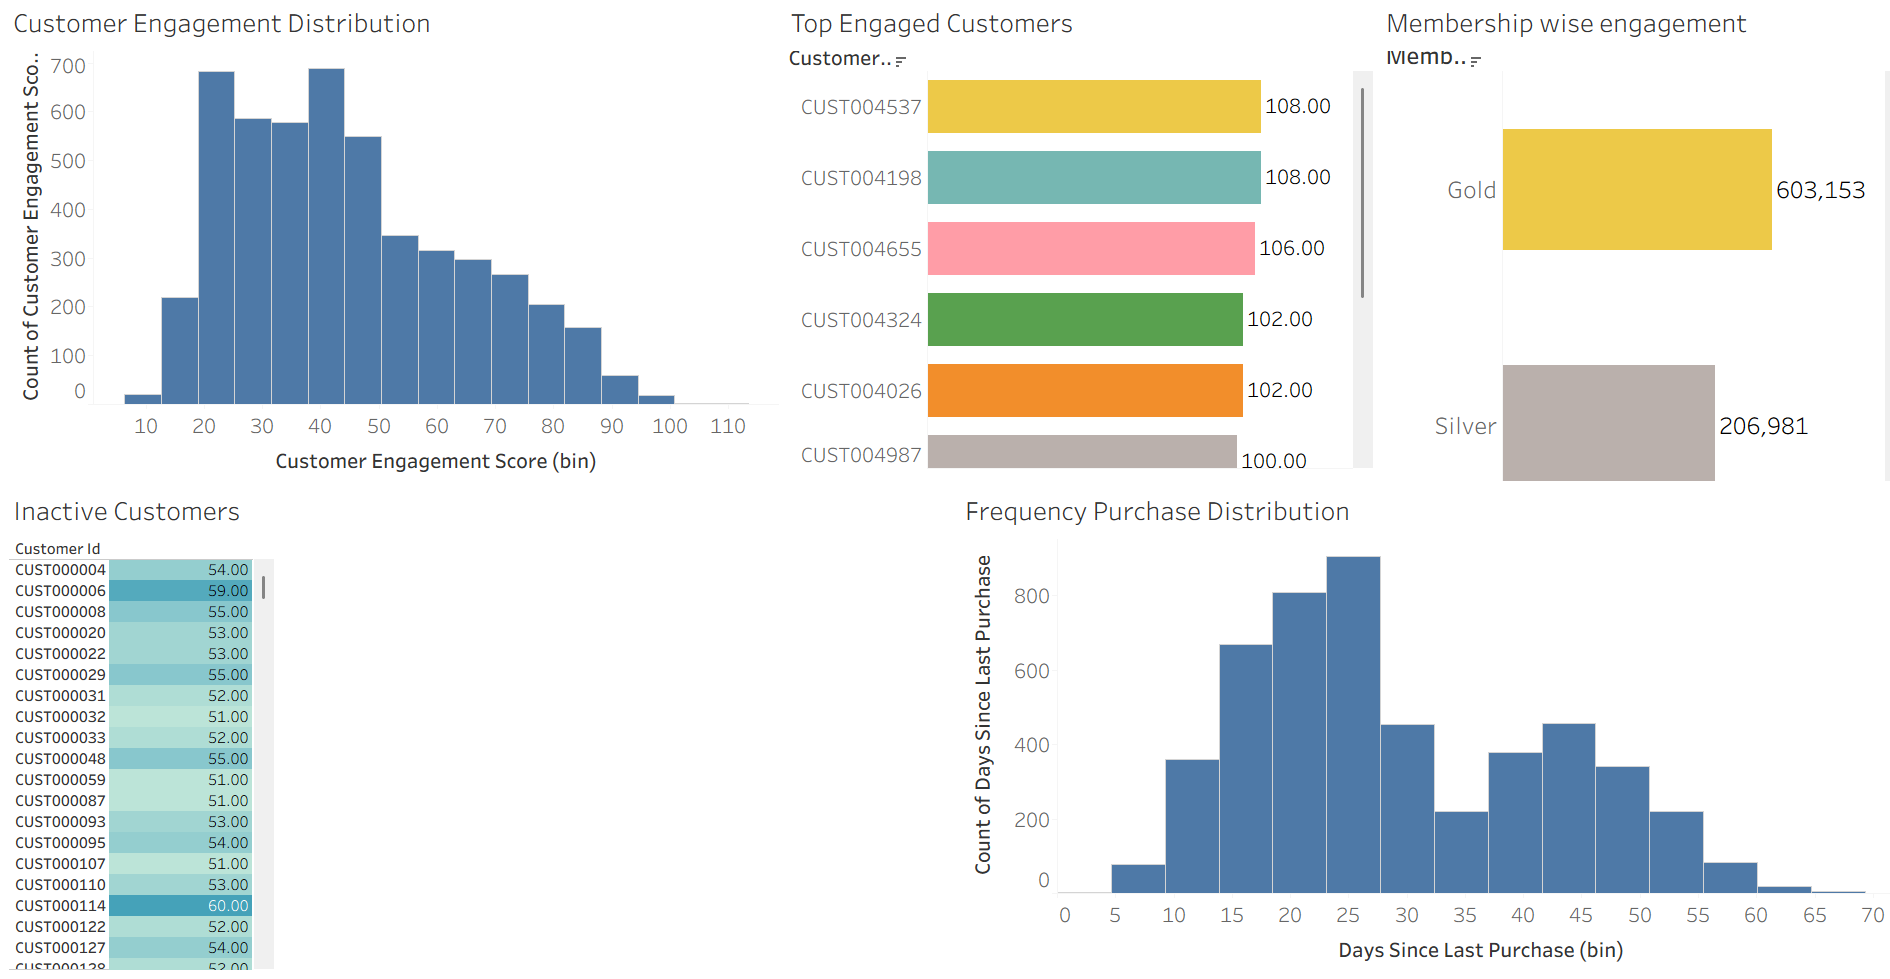

The page's visual inventory and layout, read from the dashboard file:
{"tool":"tableau","page":{"name":"Customer Engagement & retention","canvas":[1000,1000],"units":"permille","ordinal":0},"visuals":[{"type":"worksheet","title":"Customer Engagement Distribution","mark":"Automatic","rows":["Calculation_143270789893668869"],"cols":["Customer Engagement Score (bin)"],"box":[4.8,10,404.9,490]},{"type":"worksheet","title":"Top Engaged Customers","mark":"Automatic","rows":["customer_id"],"cols":["Calculation_143270789893668869"],"box":[409.7,10,309,490]},{"type":"worksheet","title":"Membership wise engagement","mark":"Automatic","rows":["membership_type"],"cols":["Calculation_143270789893668869"],"box":[718.7,10,276.4,490]},{"type":"worksheet","title":"Inactive Customers","mark":"Square","rows":["customer_id"],"box":[4.8,500,495.2,490]},{"type":"worksheet","title":"Frequency Purchase Distribution","mark":"Automatic","rows":["days_since_last_purchase"],"cols":["Days Since Last Purchase (bin)"],"box":[500,500,495.2,490]}]}

Visuals, with their boxes on the dashboard's canvas, which has no fixed pixel size, in thousandths of its width and height (x1, y1, x2, y2). These are canvas units, not pixel positions in the 1890x979 screenshot, which may show the page scaled, cropped or inside an application window:
"Customer Engagement Distribution" worksheet: x1=5, y1=10, x2=410, y2=500
"Top Engaged Customers" worksheet: x1=410, y1=10, x2=719, y2=500
"Membership wise engagement" worksheet: x1=719, y1=10, x2=995, y2=500
"Inactive Customers" worksheet (Square marks): x1=5, y1=500, x2=500, y2=990
"Frequency Purchase Distribution" worksheet: x1=500, y1=500, x2=995, y2=990
